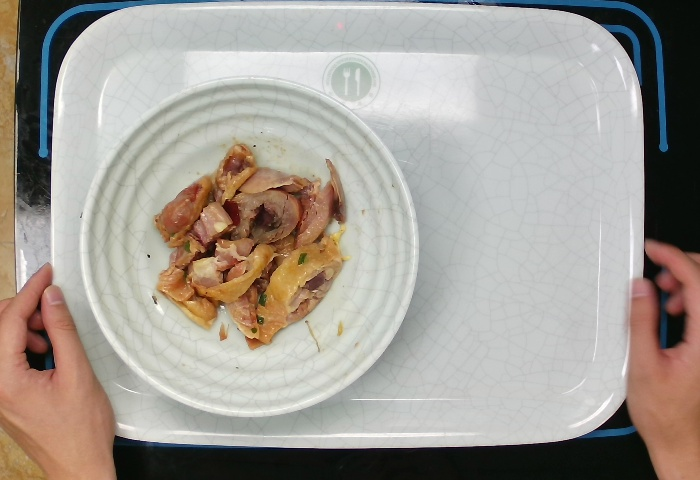JYsf-Da_Tang_Wan: (78, 74, 420, 419)
